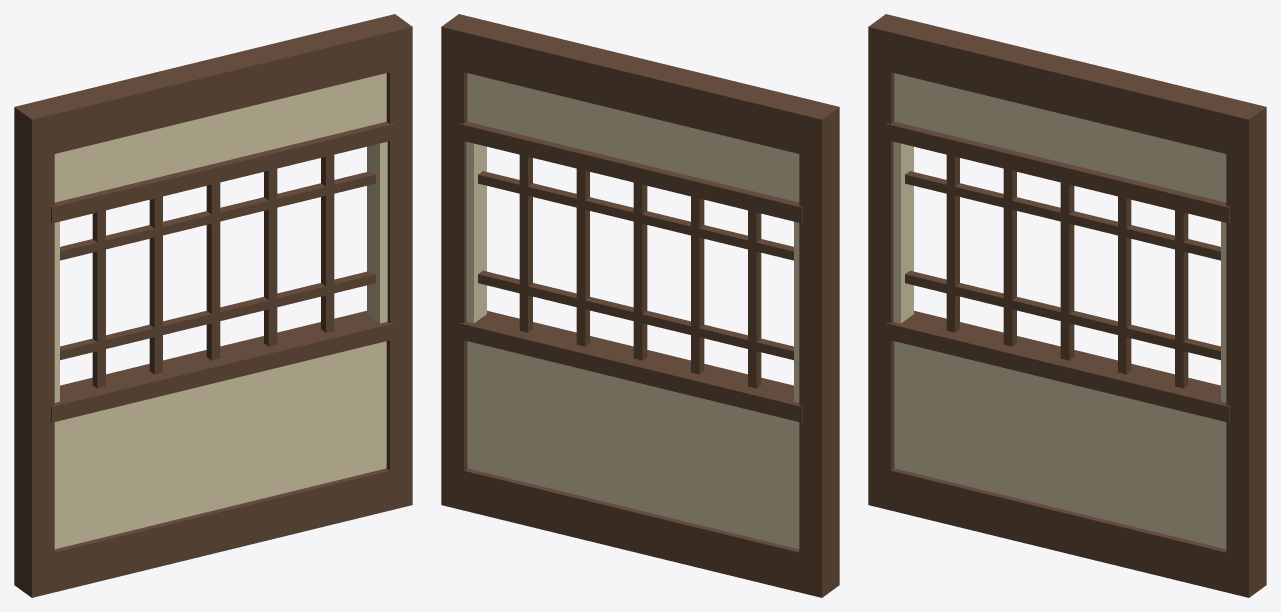
File: wall-window.glb
3 renders of one model, left to right at view 1: azimuth 30°, elevation 25°; view 2: azimuth 150°, elevation 25°; view 3: azimuth 330°, elevation 25°, orthographic.
Parts seen in each view (by area): view 1: wall-window; view 2: wall-window; view 3: wall-window.
Boxes of the visible parts, x1,y1,x2,y2 form: wall-window: [14, 14, 412, 597]; wall-window: [441, 14, 839, 597]; wall-window: [868, 14, 1266, 597].
Bounding box in the file's own units: 2 × 2.4 × 0.18.
